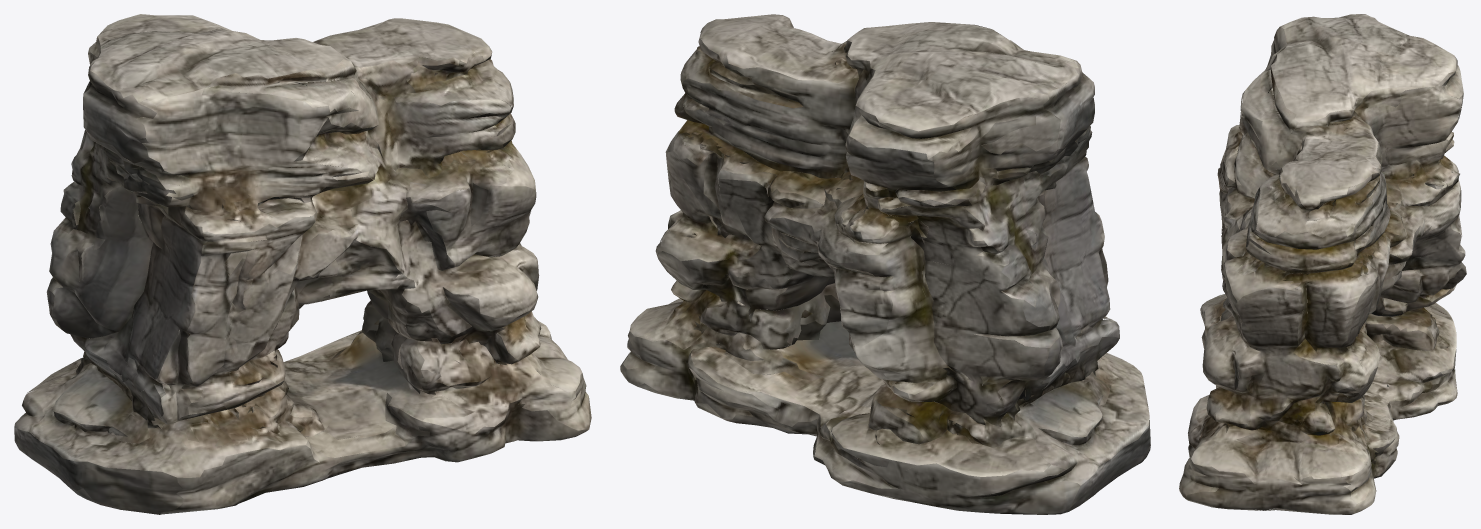
The model's file is coastal-rock-lods.glb.
3 renders of one model, left to right at view 1: azimuth 30°, elevation 25°; view 2: azimuth 150°, elevation 25°; view 3: azimuth 270°, elevation 25°, orthographic. The views are drawn at different scales.
Parts seen in each view (by area): view 1: CoastalRock_LOD0; view 2: CoastalRock_LOD0; view 3: CoastalRock_LOD0.
Boxes of the visible parts, box(x1,y1,x2,y2) form: CoastalRock_LOD0: box(14, 14, 591, 514); CoastalRock_LOD0: box(620, 14, 1150, 514); CoastalRock_LOD0: box(1179, 14, 1466, 514).
Size of what is drawn, in the model's own units: 12 by 9.4 by 7.24.
1 material, 1 textured.
